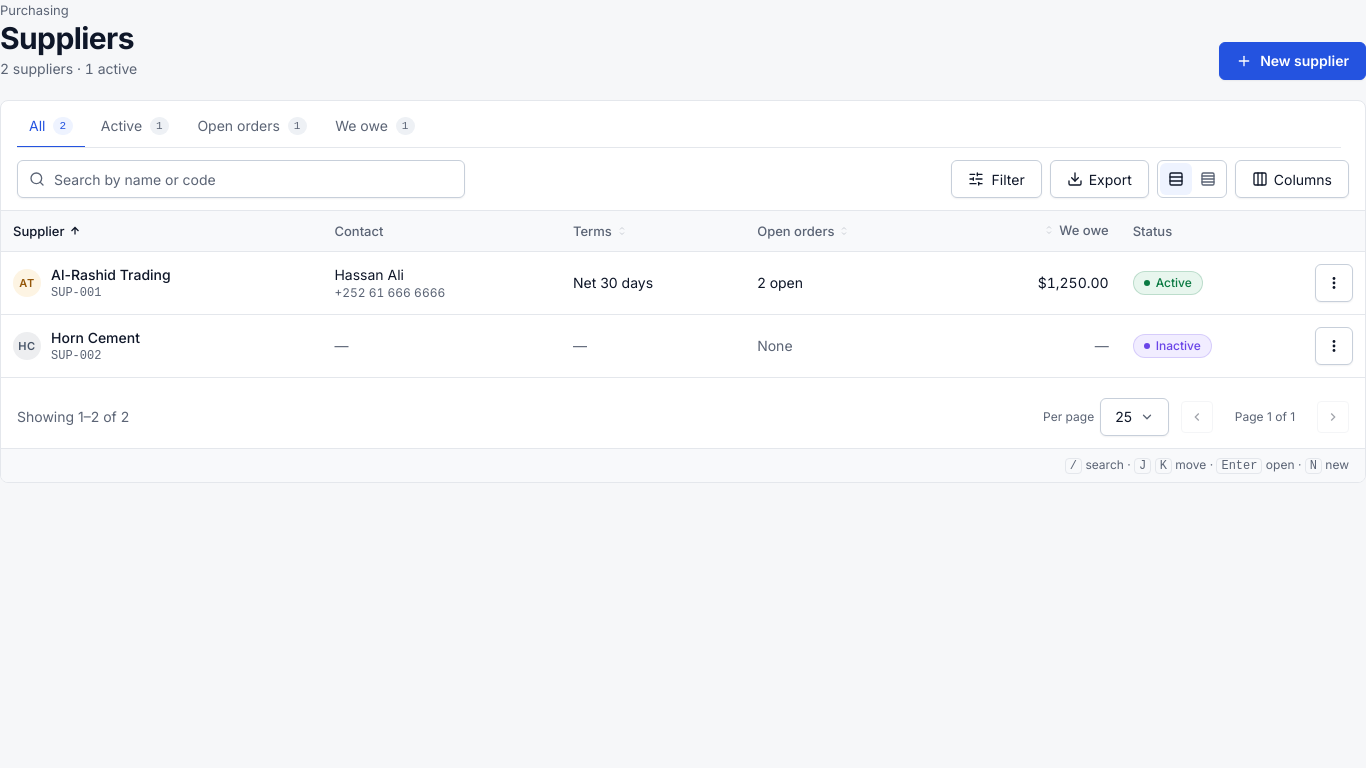
Scenario: SupplierList — edit form (A15 / D8) › pre-fills every editable field from the supplier and shows the code read-only
The width and height of the screenshot is (1366, 768).
What coordinates should you click on to do the following:
click the button named "Actions for Al-Rashid Trading"
I would click on:
 (1334, 282)
Its box is [1315,264,1353,302].
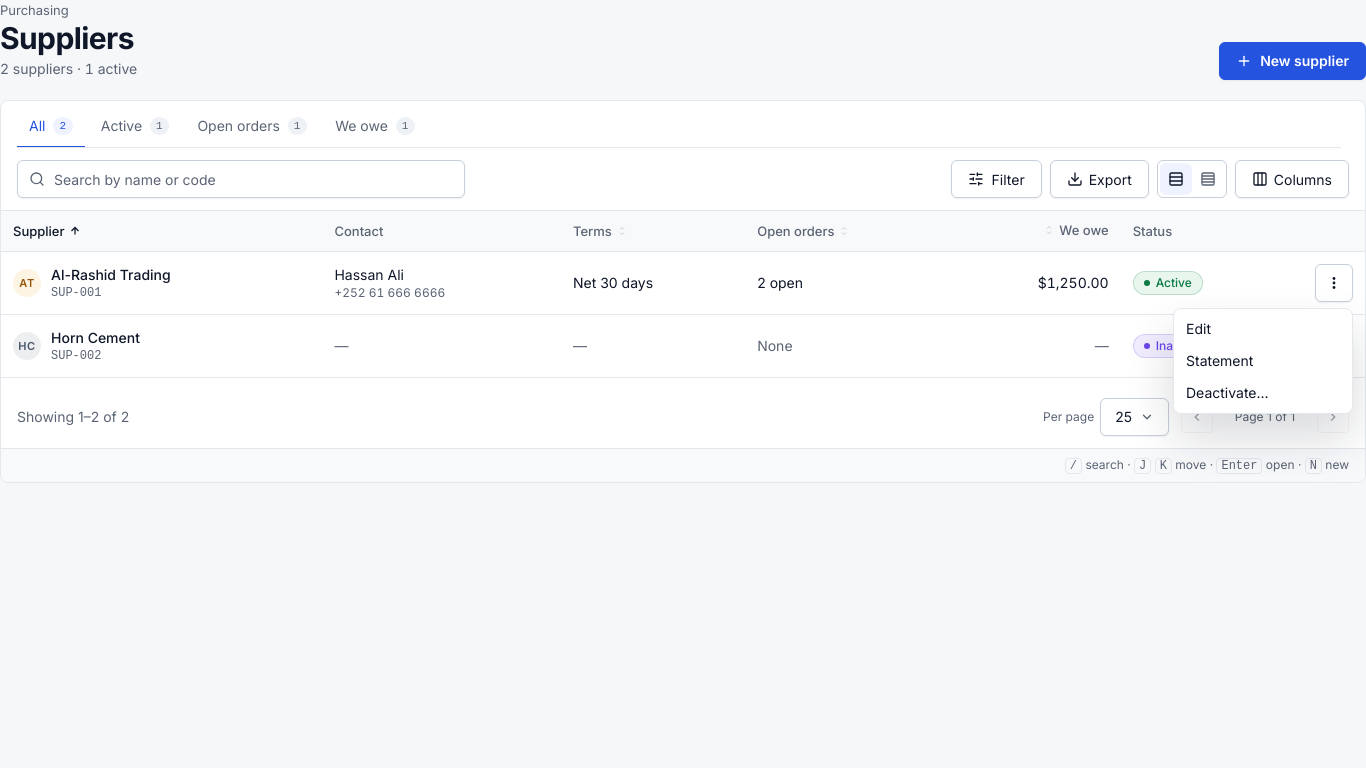
What coordinates should you click on to do the following:
click the menu item "Edit"
I would click on:
 (1198, 328)
Its box is [1186,320,1211,337].
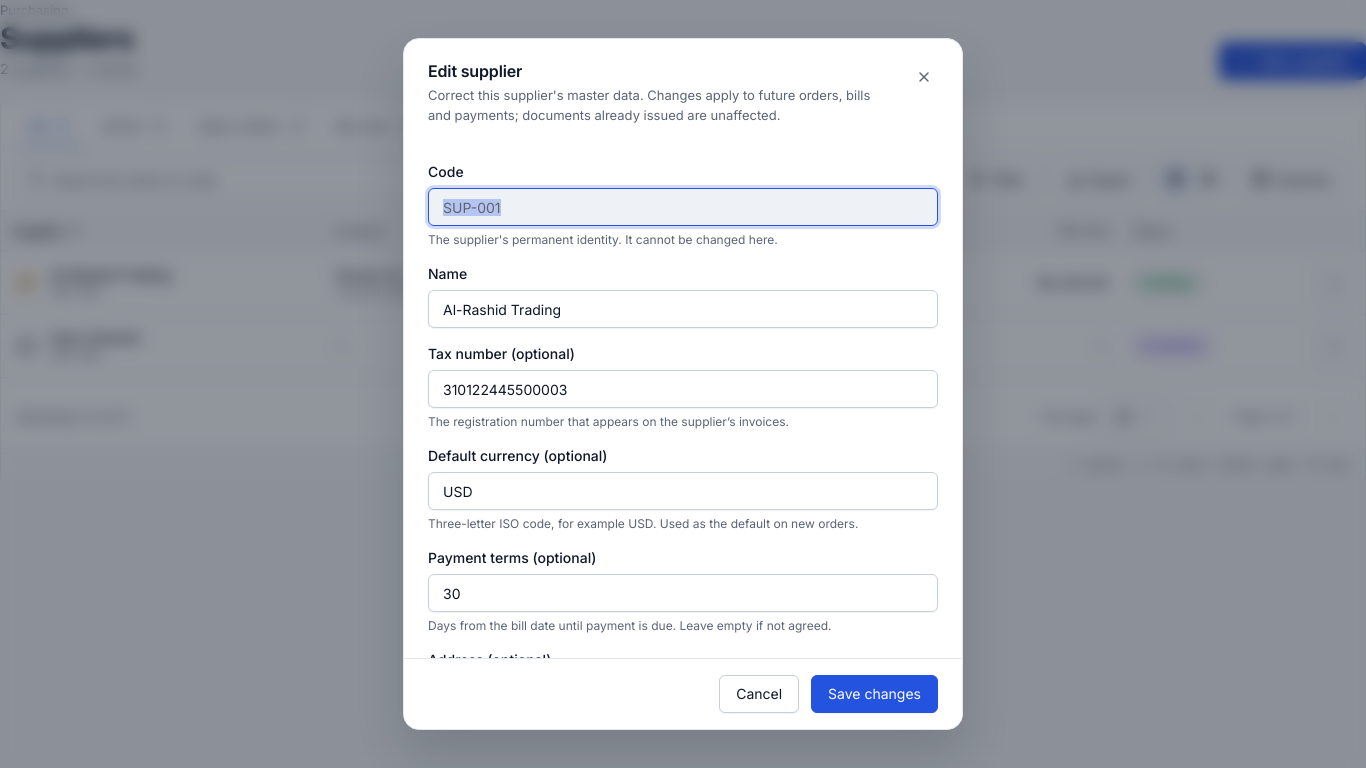
Expected: the field showing "Al-Rashid Trading" is shown, [428,290,938,328]
Expected: the field showing "310122445500003" is shown, [428,370,938,408]
Expected: the field showing "USD" is shown, [428,472,938,510]
